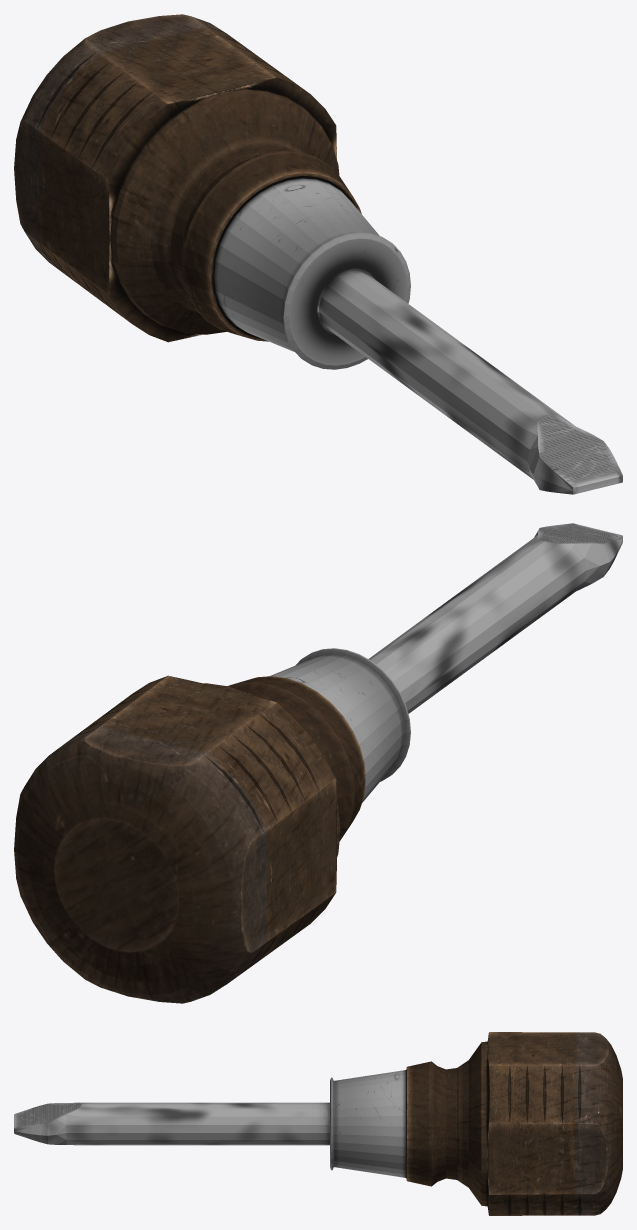
File: workshop_stubby_phillips_driver.obj
The picture shows the model from 3 angles, top to bottom: view 1: azimuth 30°, elevation 25°; view 2: azimuth 150°, elevation 25°; view 3: azimuth 270°, elevation 25°; orthographic projection. The views are drawn at different scales.
Bounding box in the file's own units: 0.03 × 0.03 × 0.11.
1 material, 1 textured.
